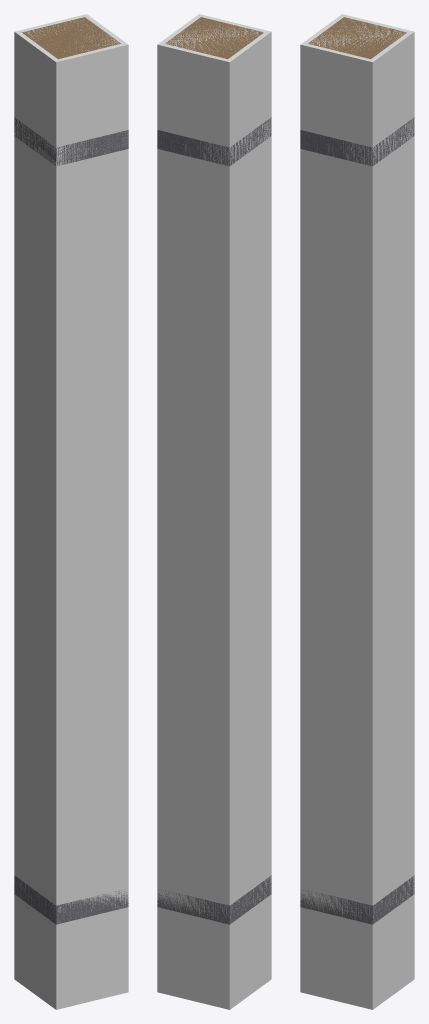
Rendered from fortress_timber_beam.glb.
The picture shows the model from 3 angles, left to right: view 1: azimuth 30°, elevation 25°; view 2: azimuth 150°, elevation 25°; view 3: azimuth 330°, elevation 25°; orthographic projection.
Parts seen in each view (by area): view 1: FortressTimberBeam-col, FortressTimberBeam; view 2: FortressTimberBeam-col, FortressTimberBeam; view 3: FortressTimberBeam-col, FortressTimberBeam.
Part boxes in pixels (x1,y1,x2,y2): FortressTimberBeam-col: (14,14,128,1009); FortressTimberBeam: (14,17,128,924); FortressTimberBeam-col: (157,14,271,1009); FortressTimberBeam: (157,17,271,924); FortressTimberBeam-col: (300,14,414,1009); FortressTimberBeam: (300,17,414,924).
Bounding box in the file's own units: 0.32 × 4 × 0.32.
